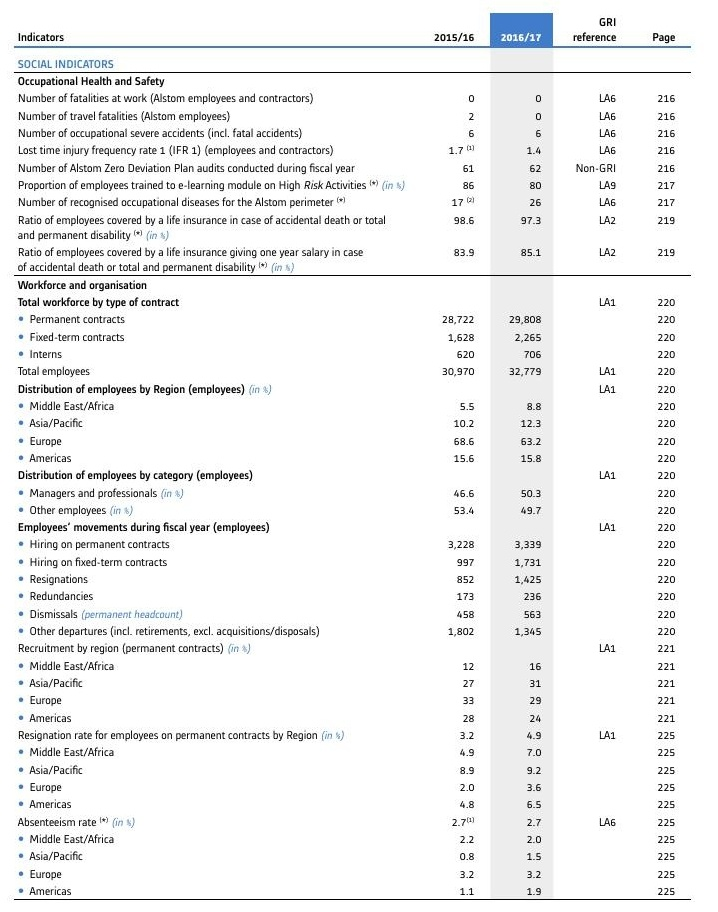table: (0, 0, 718, 912)
